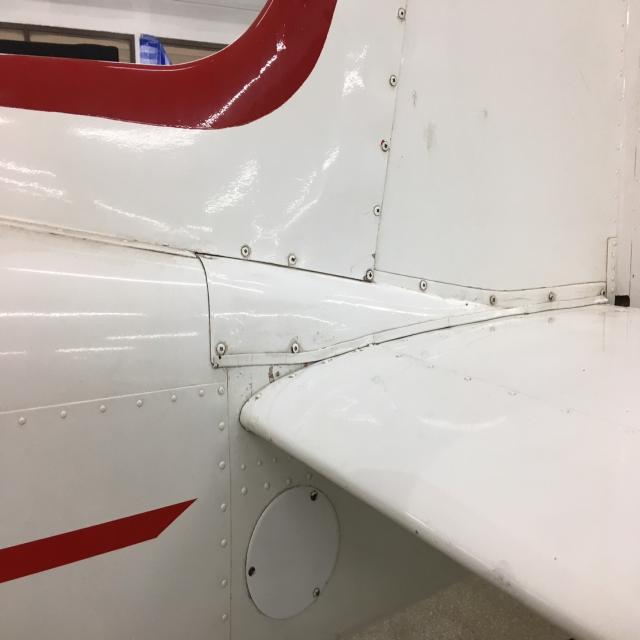Rupture: (225, 346, 331, 418), (398, 79, 452, 197), (331, 238, 383, 291), (486, 557, 520, 598), (476, 101, 495, 134)
